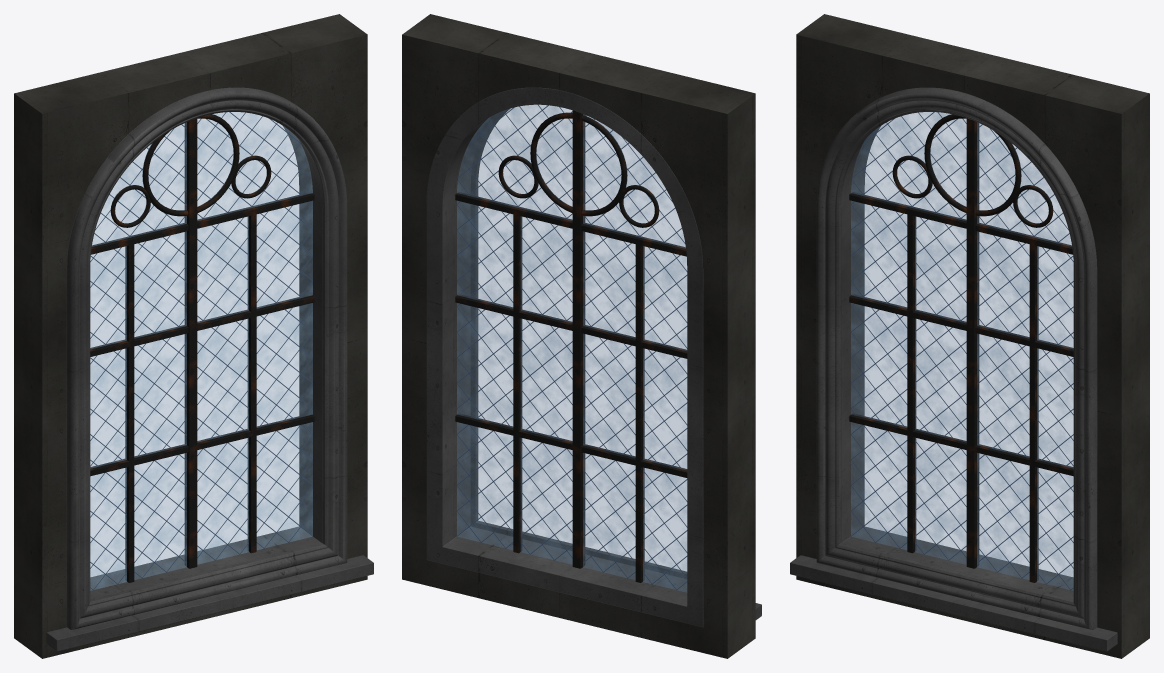
The model's file is Wall_Window.gltf.
The picture shows the model from 3 angles, left to right: view 1: azimuth 30°, elevation 25°; view 2: azimuth 150°, elevation 25°; view 3: azimuth 330°, elevation 25°; orthographic projection.
Visible parts, largest first — view 1: Window_Arched_Glass, Wall_Window_Wall, Window_Arched_Stone, Window_Arched_Iron; view 2: Window_Arched_Glass, Wall_Window_Wall, Window_Arched_Stone, Window_Arched_Iron; view 3: Window_Arched_Glass, Wall_Window_Wall, Window_Arched_Stone, Window_Arched_Iron.
Part boxes in pixels (x1,y1,x2,y2): Window_Arched_Glass: (90,112,312,590); Wall_Window_Wall: (14,14,367,658); Window_Arched_Stone: (46,87,373,651); Window_Arched_Iron: (90,114,314,582); Window_Arched_Glass: (457,104,687,592); Wall_Window_Wall: (402,14,755,658); Window_Arched_Stone: (426,87,761,626); Window_Arched_Iron: (455,110,687,582); Window_Arched_Glass: (851,112,1073,590); Wall_Window_Wall: (796,14,1149,658); Window_Arched_Stone: (790,87,1117,651); Window_Arched_Iron: (849,114,1073,582).
Size of what is drawn, in the model's own units: 2 by 3.2 by 0.41.
Materials: 4 (4 with a texture image).
